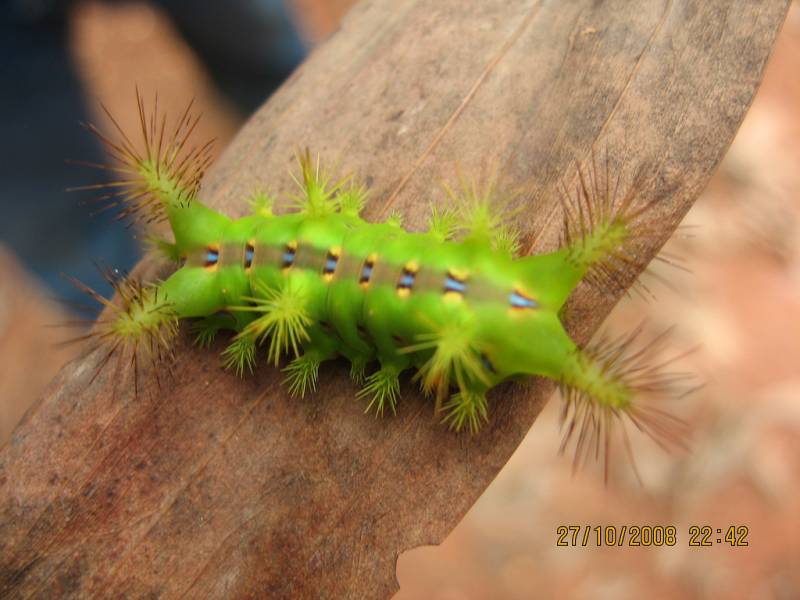Pest! (nettle_caterpillar): (77, 89, 687, 462)
